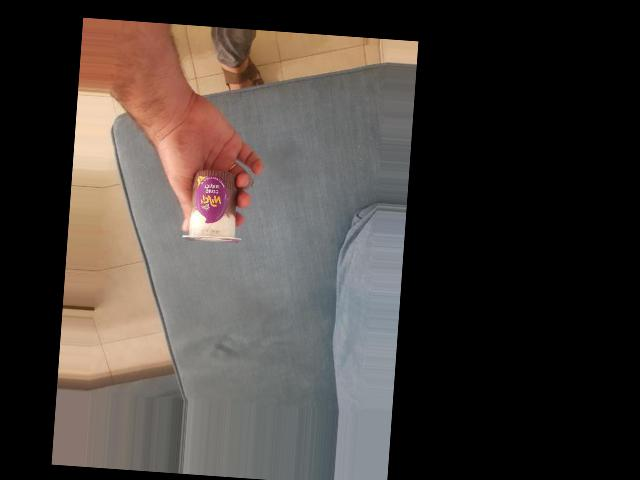milky: (248, 211, 347, 275)
